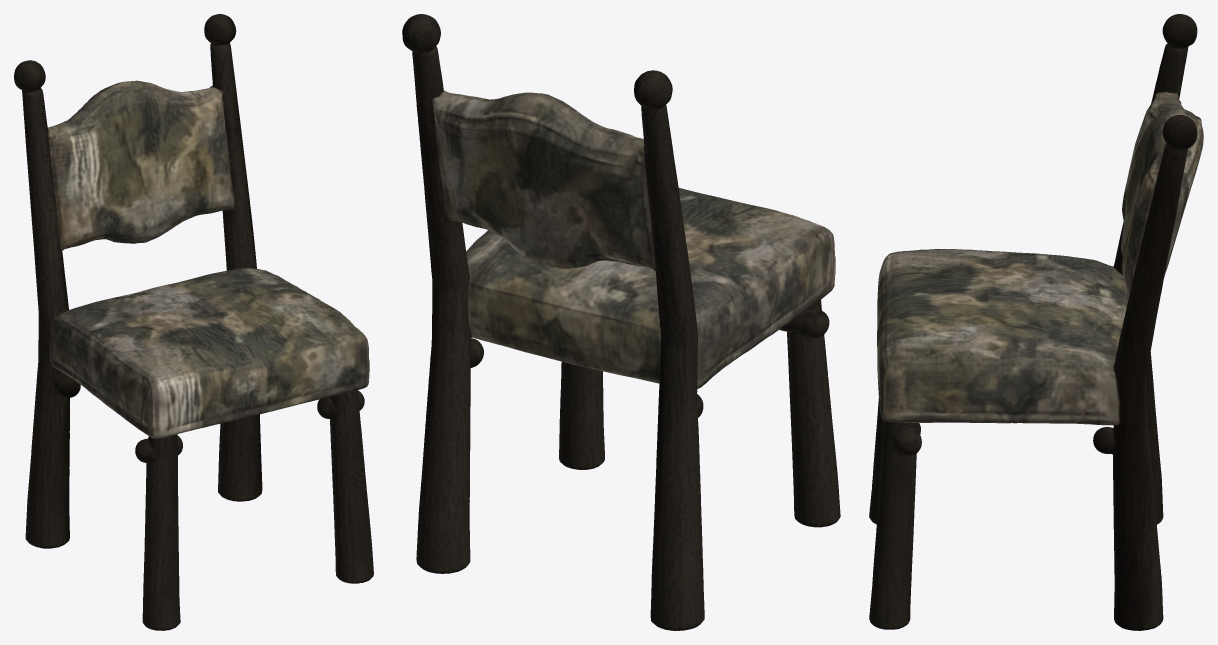
File: Contemporary Upholstered Side Chair with Ball Finials [PKhGlE].glb
The picture shows the model from 3 angles, left to right: view 1: azimuth 30°, elevation 25°; view 2: azimuth 150°, elevation 25°; view 3: azimuth 270°, elevation 25°; orthographic projection. The views are drawn at different scales.
Parts seen in each view (by area): view 1: world; view 2: world; view 3: world.
Part boxes in pixels (x1,y1,x2,y2): world: (14, 14, 373, 630); world: (402, 14, 840, 630); world: (869, 14, 1203, 630).
Size of the model in its own units: 0.5217 by 1 by 0.6027.
1 material, 1 textured.
